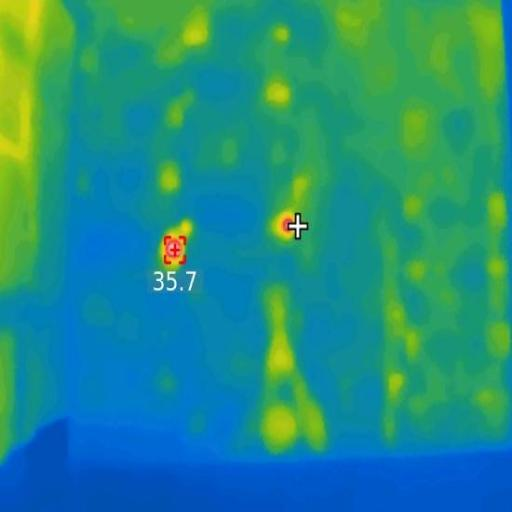hotspot: (161, 235, 186, 262), (278, 212, 297, 233)
